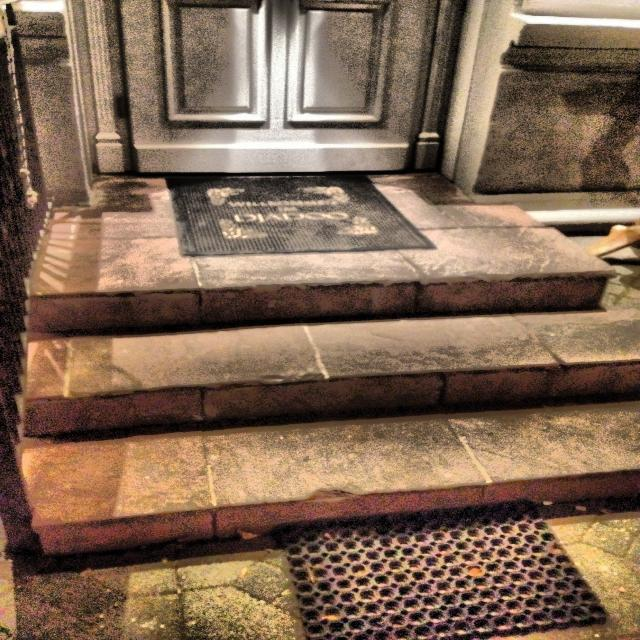escada: (4, 269, 640, 552)
